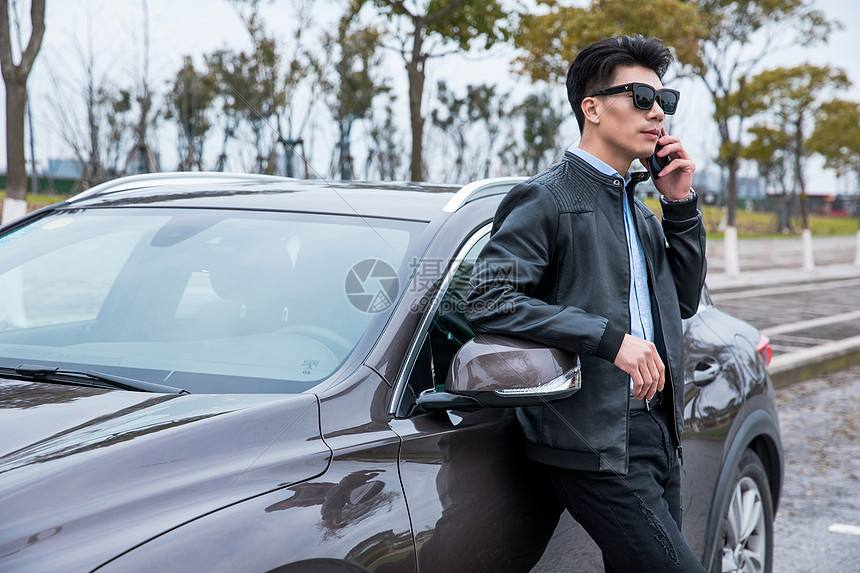calling: (645, 114, 698, 197)
no-phone: (622, 331, 666, 402)
